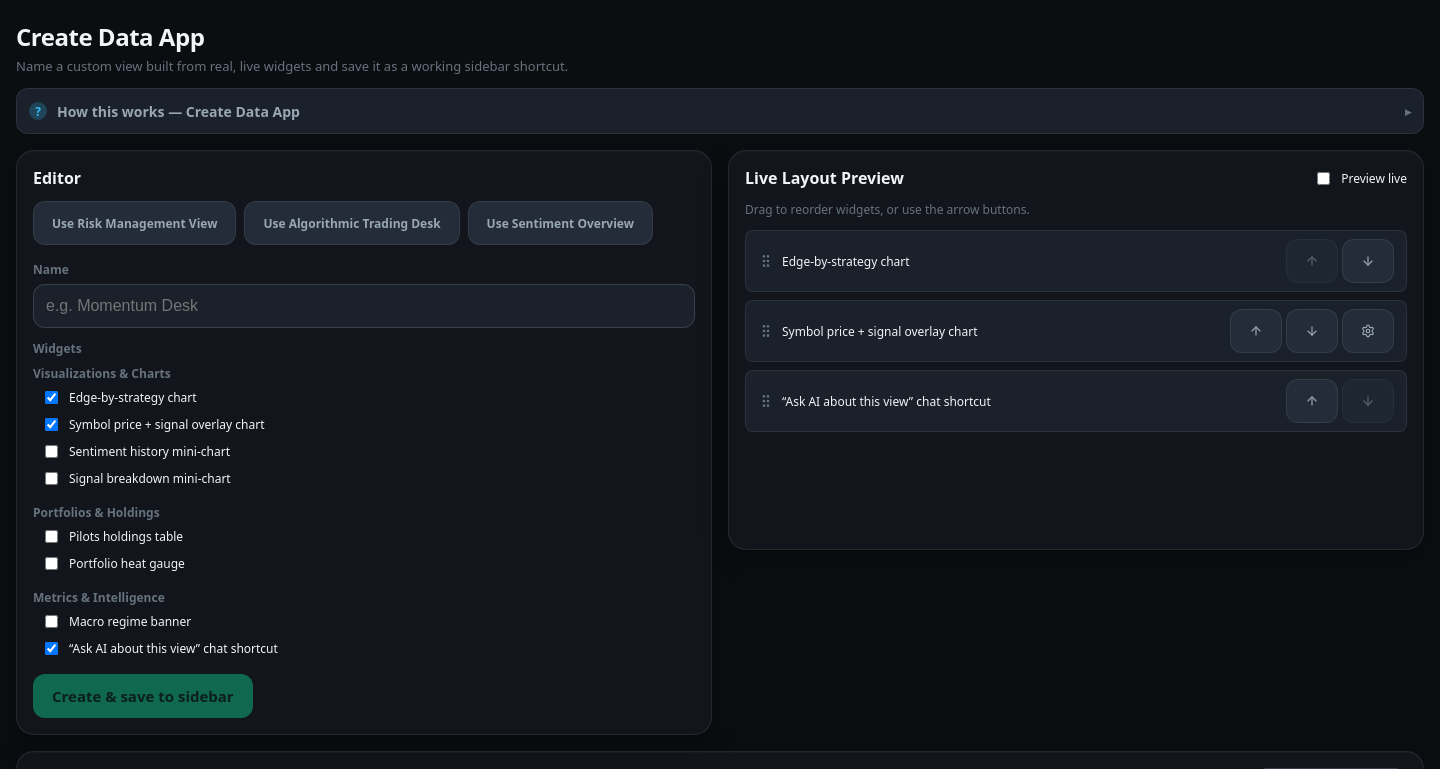
Test: CreateDataApp screen › create is disabled when no widgets are selected
Step 1. Type "My View" into the field labelled "Name" → (364, 306), box [33, 284, 695, 328]
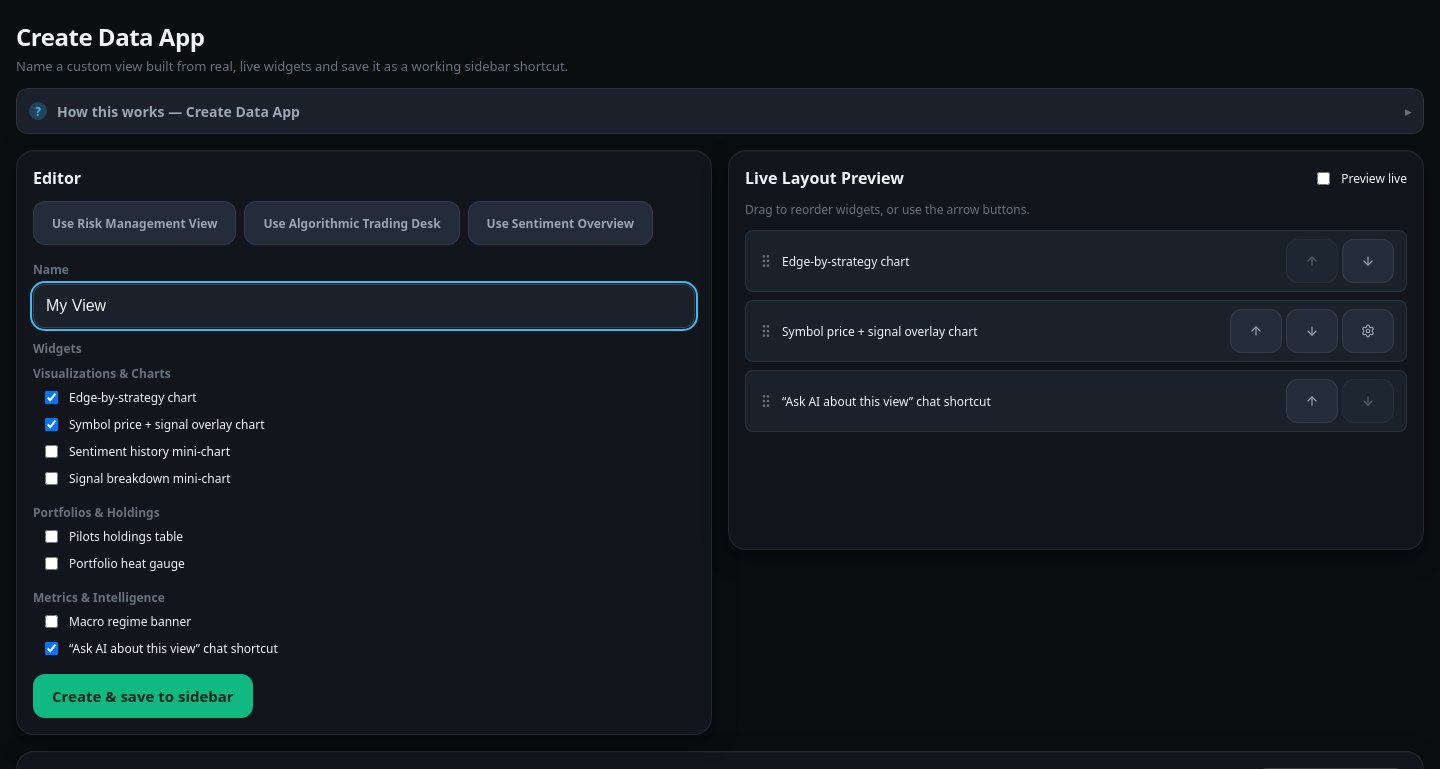
Note: All three widgets default checked -- uncheck all of them.
Step 2. Click the checkbox with test id "widget-toggle-edgeByStrategy" → (52, 398), box [45, 391, 58, 404]
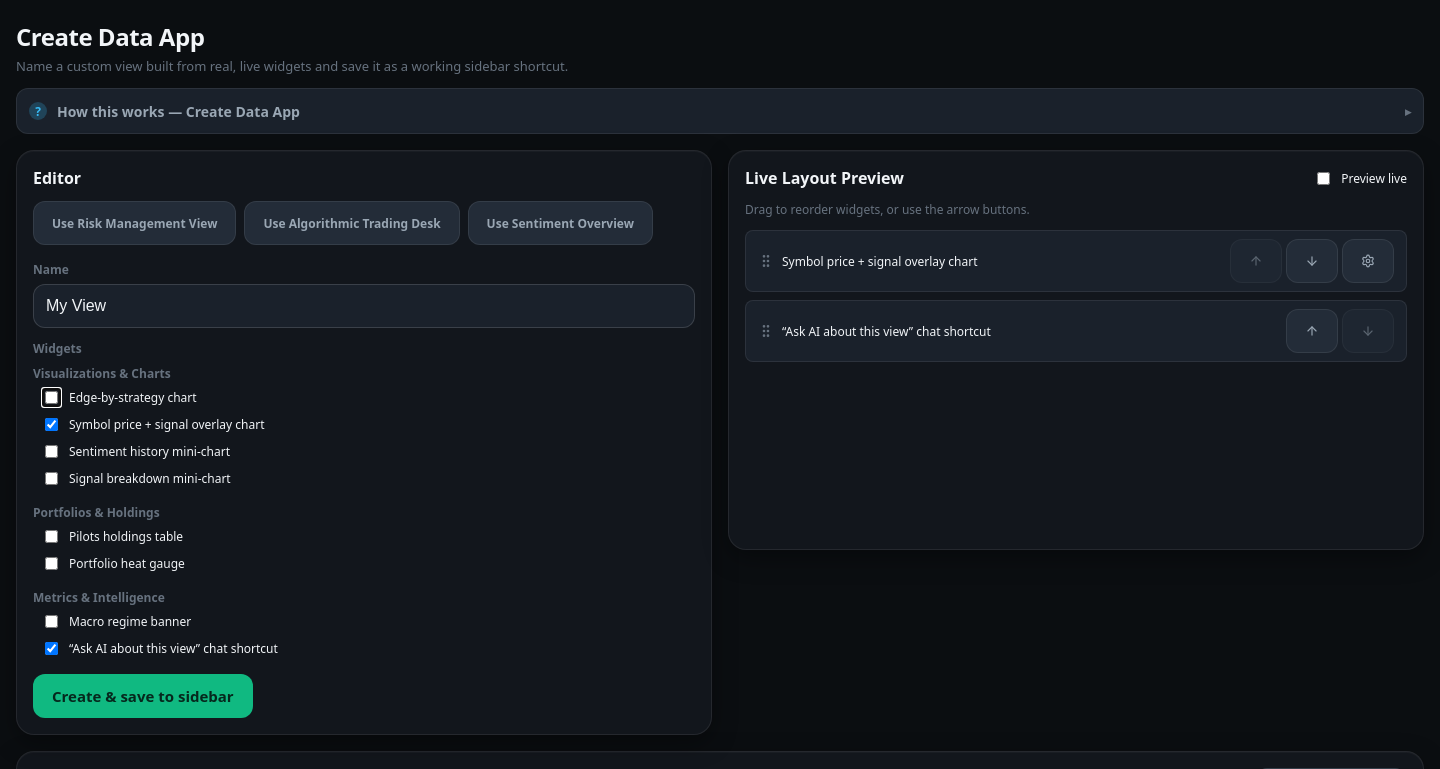
Step 3. Click the checkbox with test id "widget-toggle-symbolOverlay" → (52, 424), box [45, 418, 58, 431]
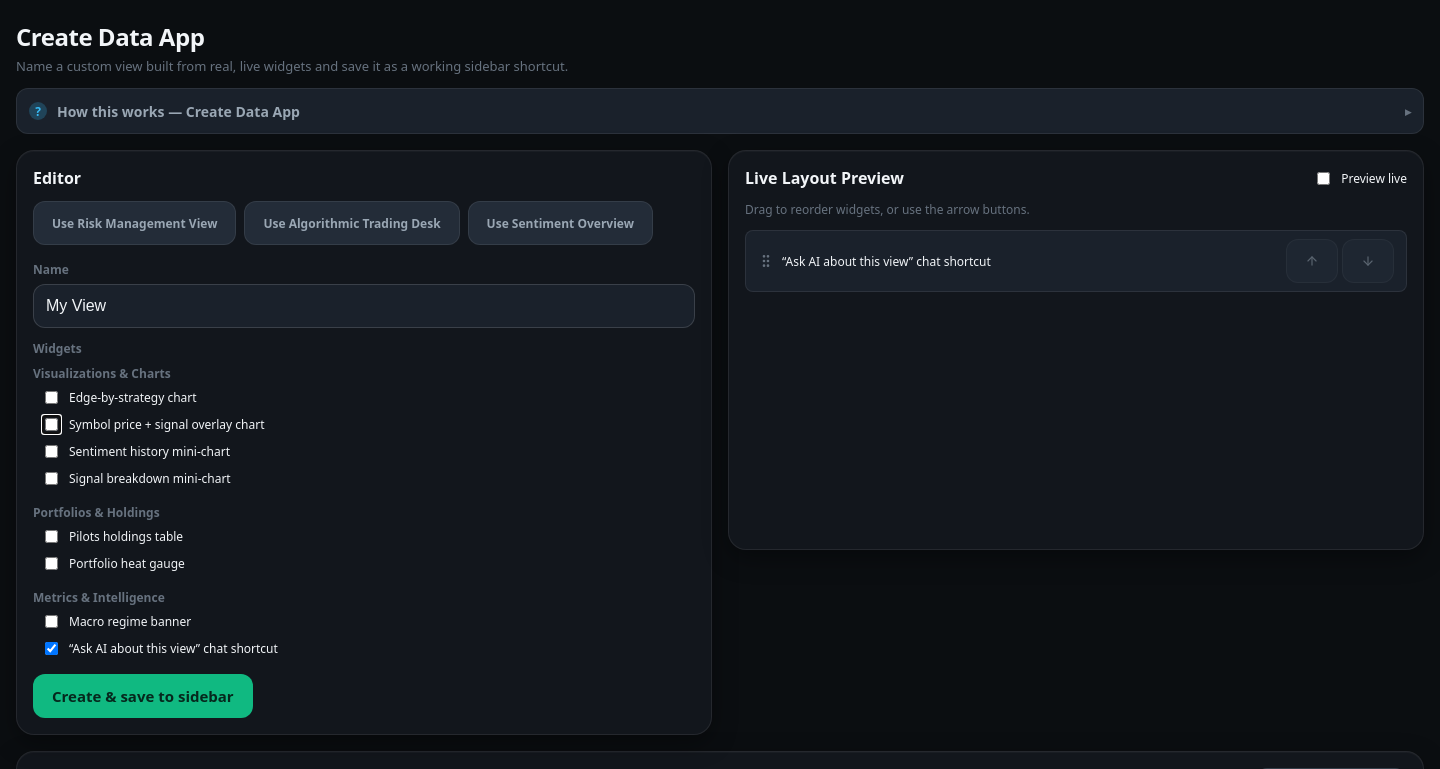
Step 4. Click the checkbox with test id "widget-toggle-aiChat" → (52, 648), box [45, 642, 58, 655]
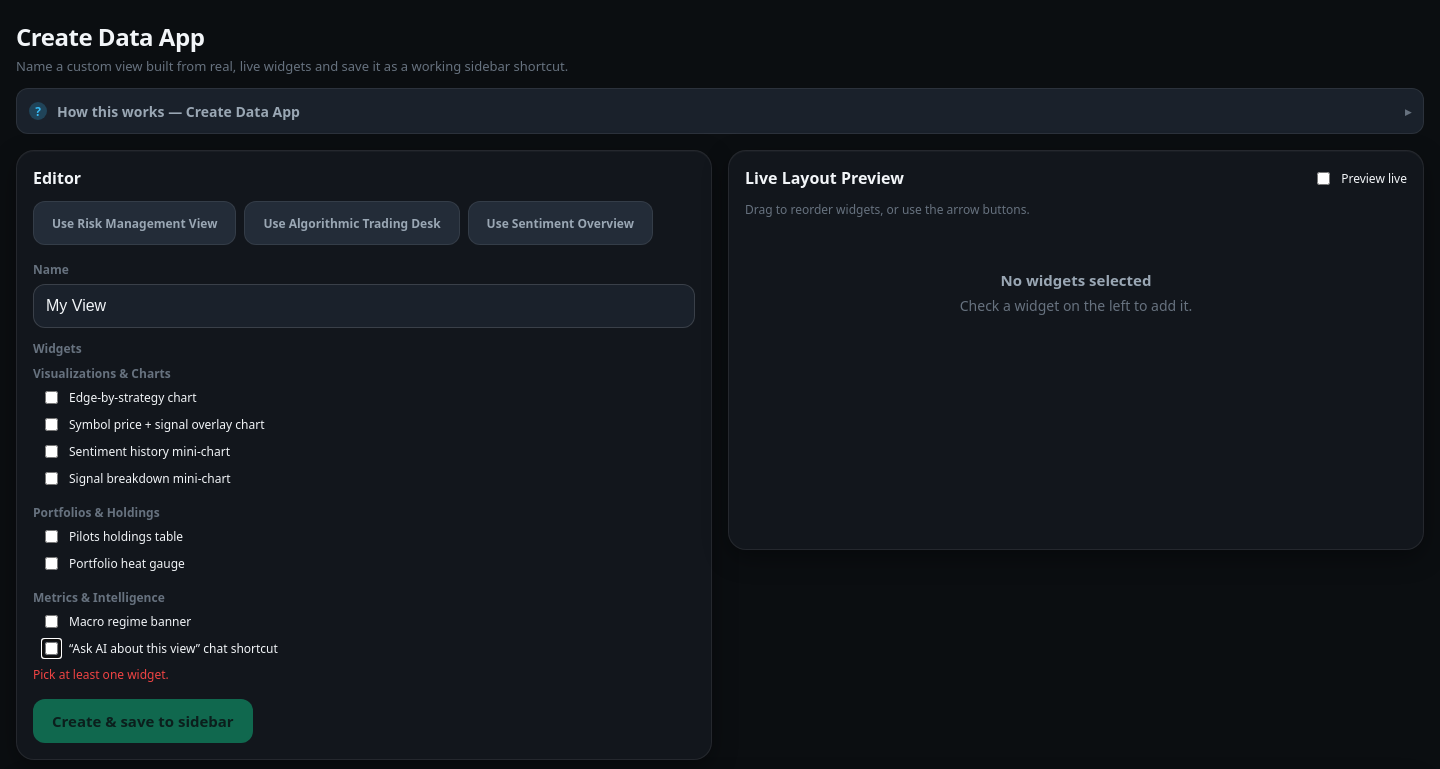
Now the button with test id "create-data-app-submit" is disabled, box [33, 699, 253, 743]
Now the text "Pick at least one widget." is shown, box [33, 666, 169, 683]
